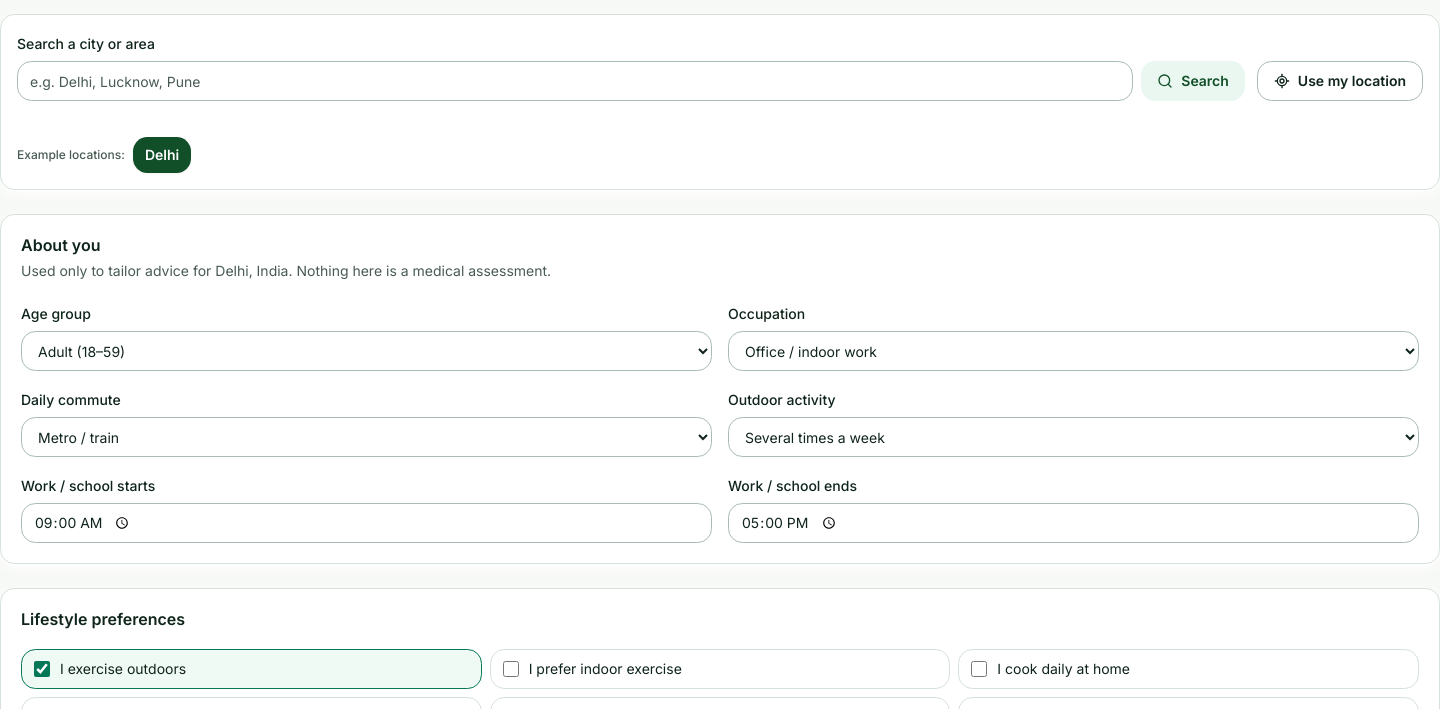
Daily planner page › has labelled fields, an optional voluntary sensitivity section and generates a plan with reasons
The width and height of the screenshot is (1440, 709).
Check: the dropdown labelled "Age group" is shown, box [21, 331, 712, 371]
Select "Car (alone)" in the dropdown labelled "Daily commute" at point(366, 437), box [21, 417, 712, 457]
(page scrolled)
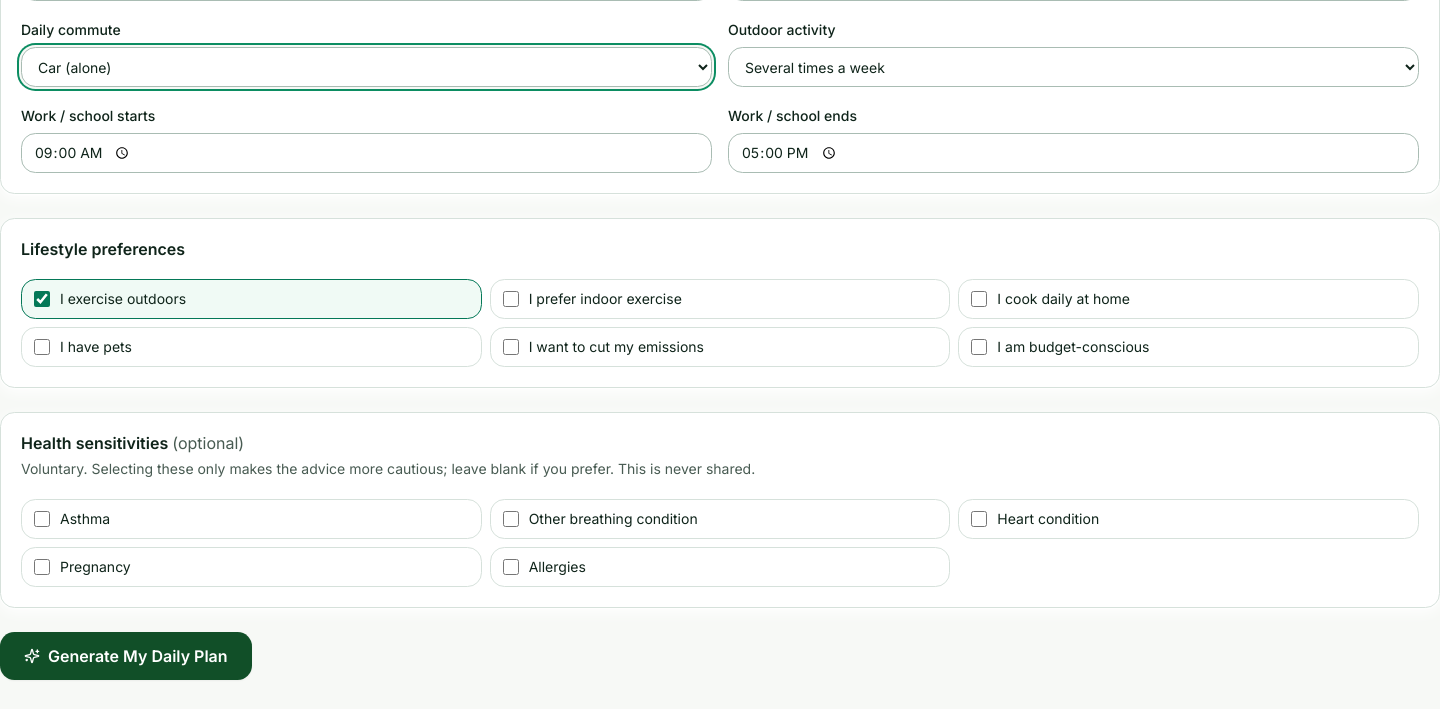
Click the checkbox labelled "Asthma" at point(42, 519), box [34, 511, 50, 527]
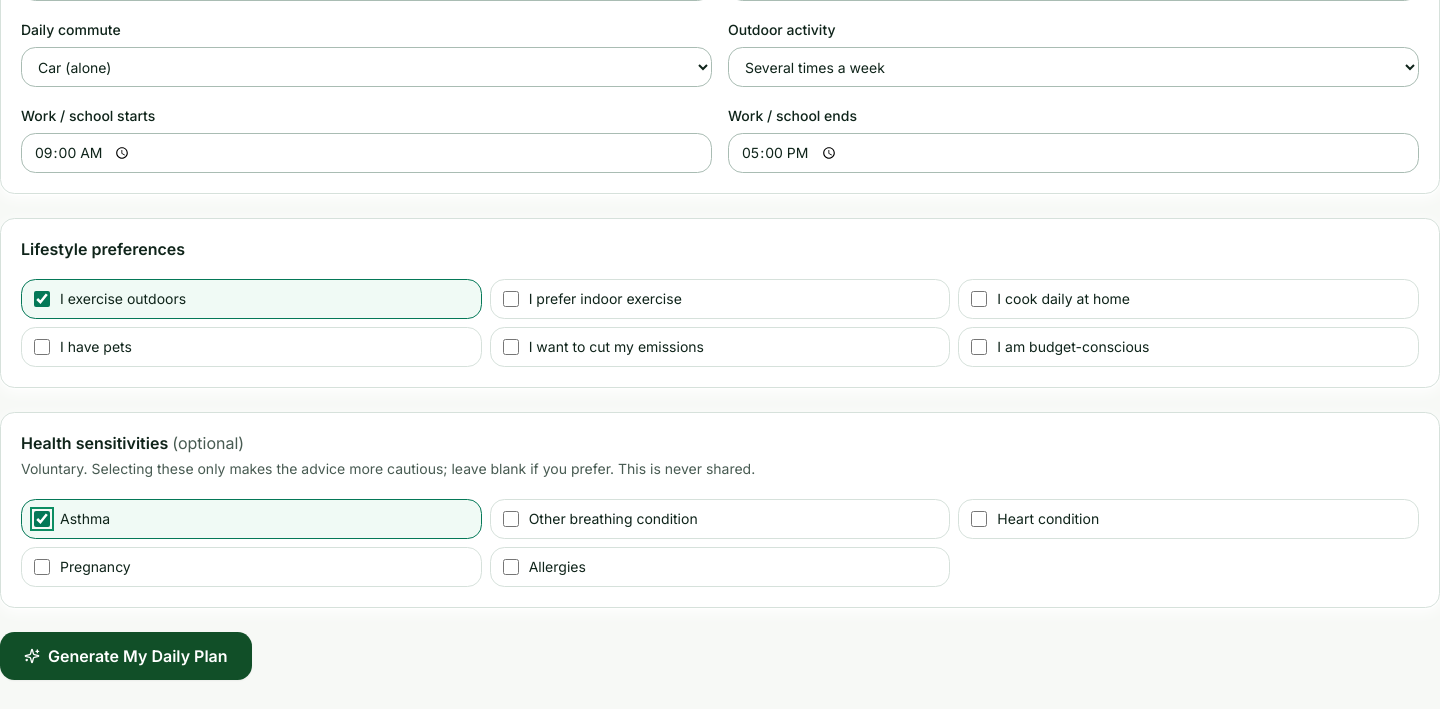
Click the button "Generate My Daily Plan" at point(126, 656), box [0, 632, 252, 680]
(page scrolled)
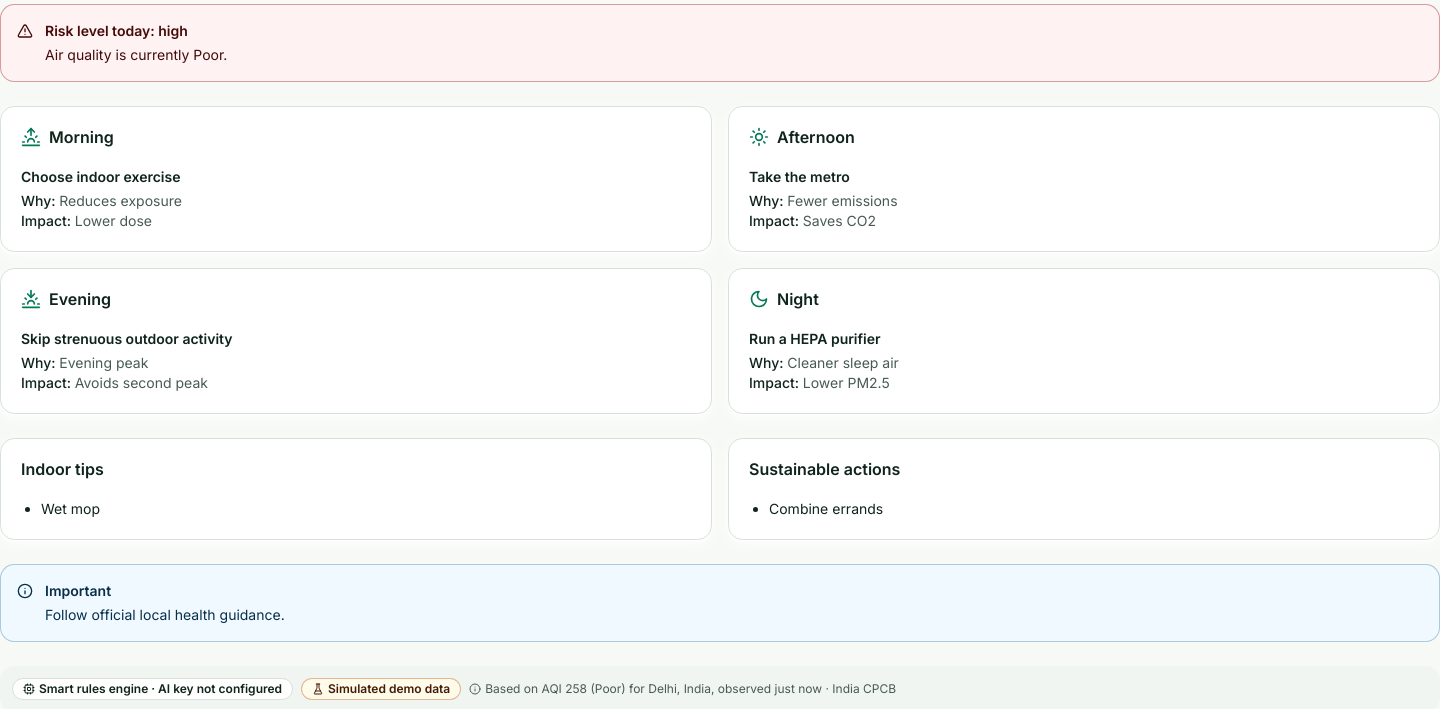
Check: the text "Choose indoor exercise" is shown, box [21, 168, 180, 185]
Check: the text "Smart rules engine · AI key not configured" is shown, box [12, 678, 293, 700]
